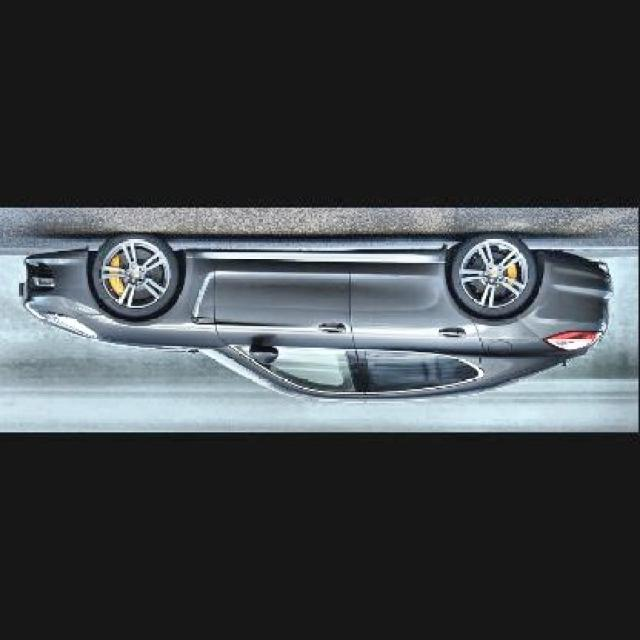black: (0, 215, 605, 402)
